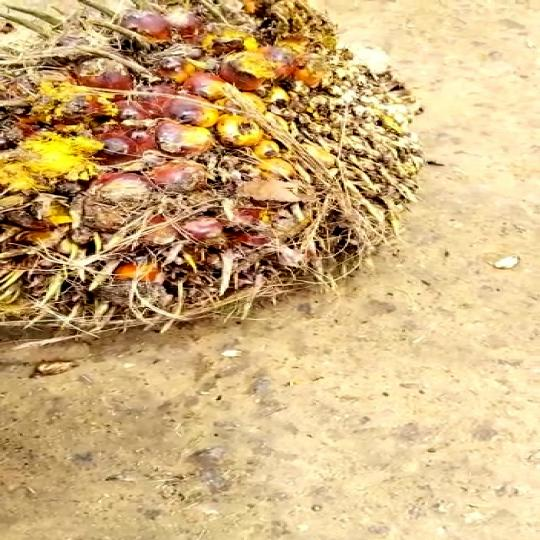masak: (0, 0, 428, 356)
